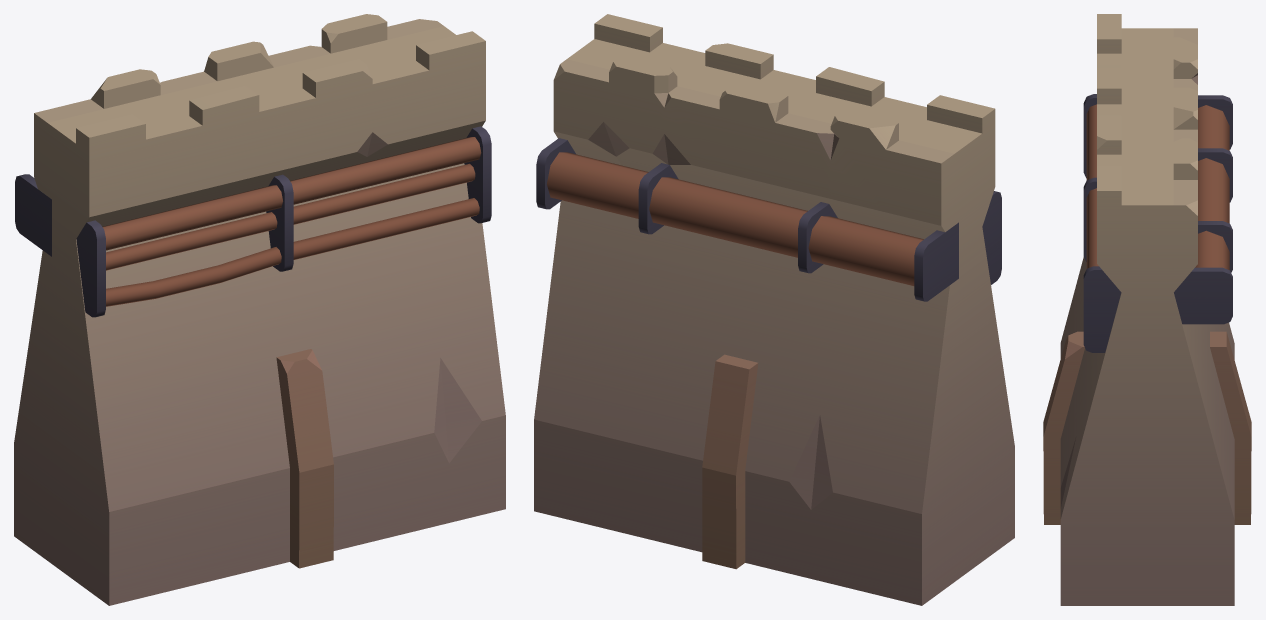
Rendered from WallSection_Medium_04.fbx.
The picture shows the model from 3 angles, left to right: view 1: azimuth 30°, elevation 25°; view 2: azimuth 150°, elevation 25°; view 3: azimuth 270°, elevation 25°; orthographic projection. The views are drawn at different scales.
Parts seen in each view (by area): view 1: WallSection_Medium_04; view 2: WallSection_Medium_04; view 3: WallSection_Medium_04.
Part boxes in pixels (x1,y1,x2,y2): WallSection_Medium_04: (14,14,505,605); WallSection_Medium_04: (534,14,1014,605); WallSection_Medium_04: (1043,14,1251,605).
Size of the model in its own units: 670 by 735 by 333.
